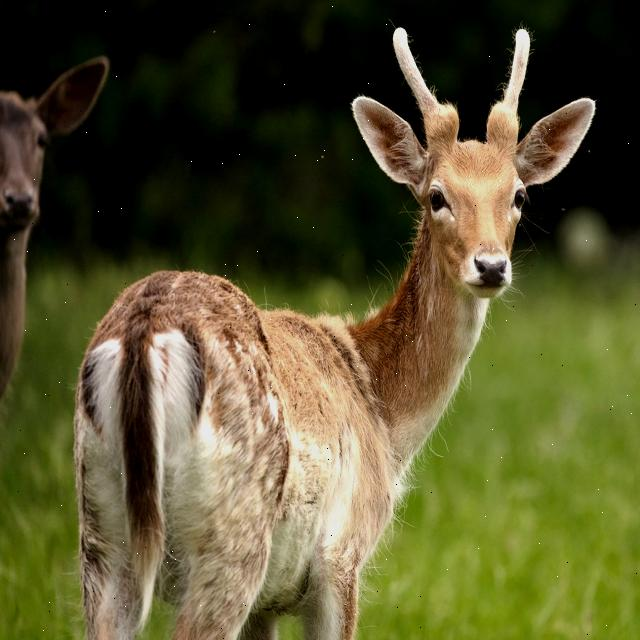deer: (70, 6, 600, 640)
